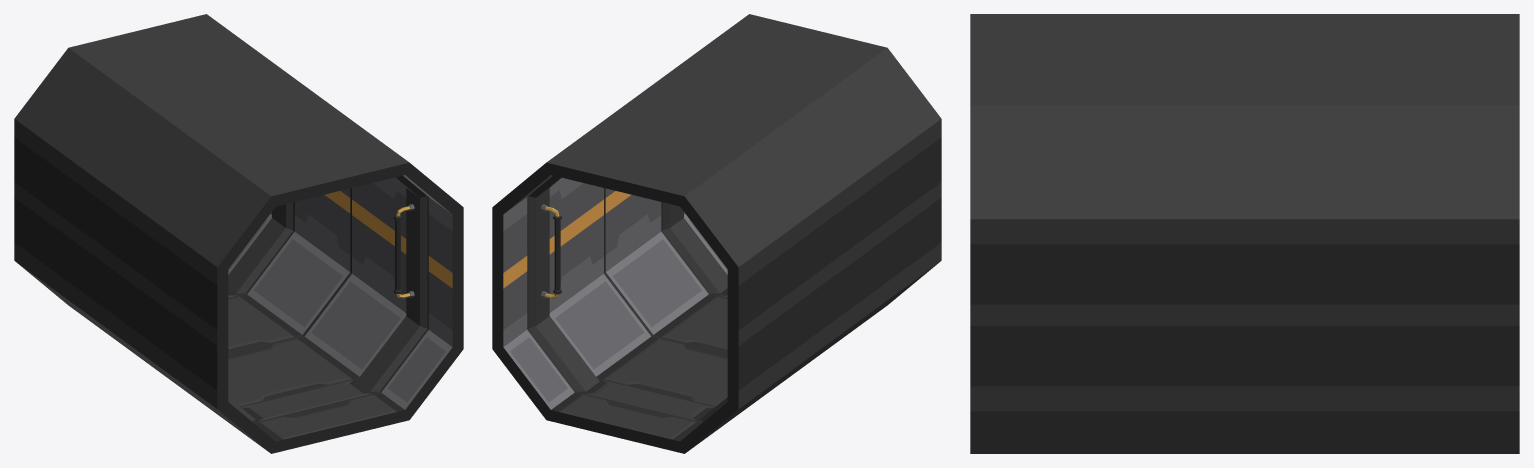
File: SM_Bld_Wall_Tube_01.fbx
3 views of the same model, side by side, from view 1: azimuth 30°, elevation 25°; view 2: azimuth 150°, elevation 25°; view 3: azimuth 270°, elevation 25° (orthographic). The views are drawn at different scales.
Parts seen in each view (by area): view 1: SM_Bld_Wall_Tube_01_LOD0; view 2: SM_Bld_Wall_Tube_01_LOD0; view 3: SM_Bld_Wall_Tube_01_LOD0.
Part boxes in pixels (x1,y1,x2,y2): SM_Bld_Wall_Tube_01_LOD0: (14, 14, 463, 453); SM_Bld_Wall_Tube_01_LOD0: (492, 14, 941, 453); SM_Bld_Wall_Tube_01_LOD0: (970, 14, 1519, 453).
Size of the model in its own units: 500 by 350 by 350.
Materials: 1 (1 with a texture image).
